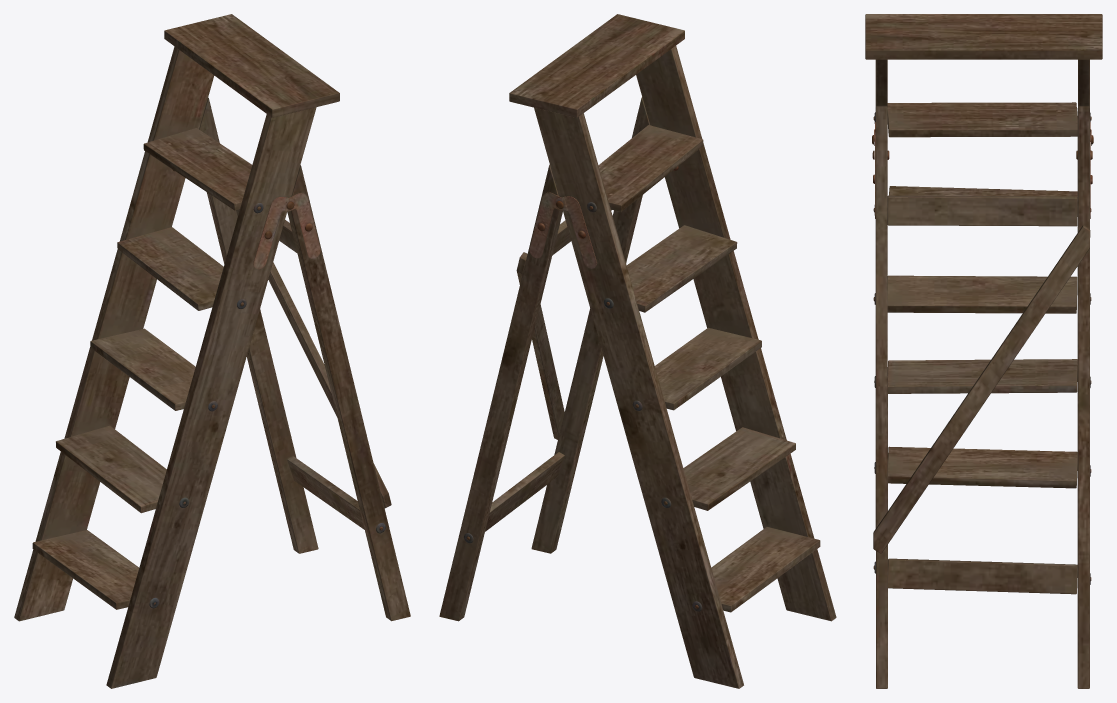
Rendered from wooden_ladder_02.glb.
The picture shows the model from 3 angles, left to right: view 1: azimuth 30°, elevation 25°; view 2: azimuth 150°, elevation 25°; view 3: azimuth 270°, elevation 25°; orthographic projection. The views are drawn at different scales.
Visible parts, largest first — view 1: wooden_ladder_02; view 2: wooden_ladder_02; view 3: wooden_ladder_02.
Part boxes in pixels (x1,y1,x2,y2): wooden_ladder_02: [14, 14, 410, 688]; wooden_ladder_02: [439, 14, 836, 688]; wooden_ladder_02: [865, 14, 1102, 688].
Size of the model in its own units: 0.9895 by 1.72 by 0.6181.
1 material, 1 textured.
